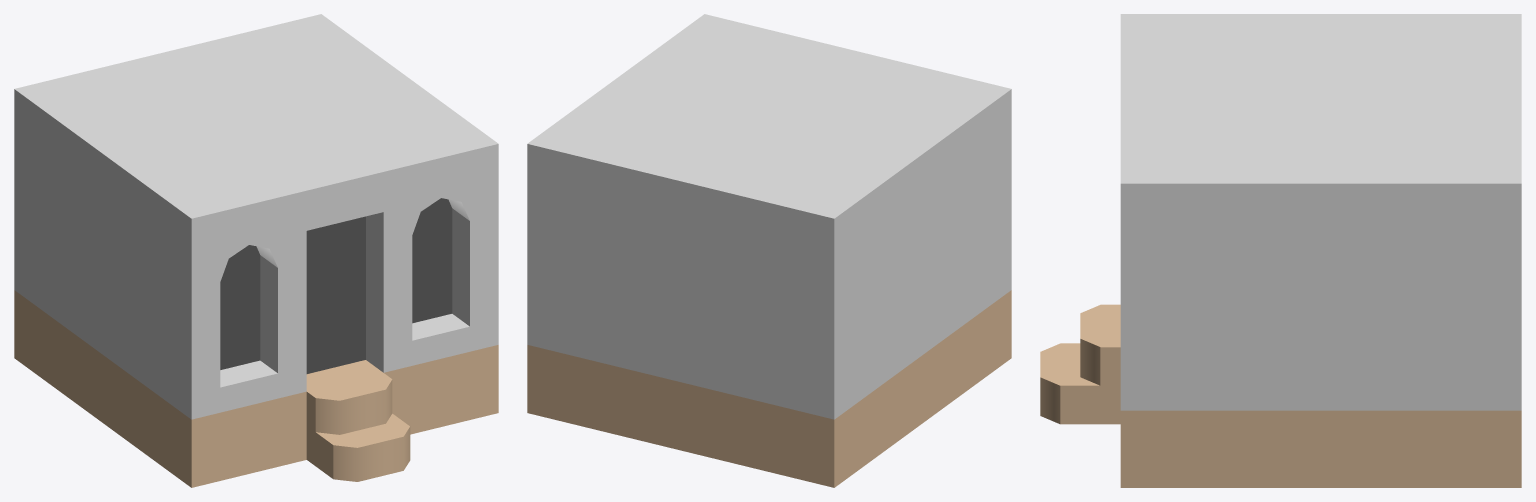
The model's file is building_with_windows.fbx.
3 renders of one model, left to right at view 1: azimuth 30°, elevation 25°; view 2: azimuth 150°, elevation 25°; view 3: azimuth 270°, elevation 25°, orthographic. The views are drawn at different scales.
Visible parts, largest first — view 1: building_steps_narrow_windows_round; view 2: building_steps_narrow_windows_round; view 3: building_steps_narrow_windows_round.
Boxes of the visible parts, x1,y1,x2,y2 form: building_steps_narrow_windows_round: (14, 14, 498, 487); building_steps_narrow_windows_round: (527, 14, 1011, 487); building_steps_narrow_windows_round: (1040, 14, 1521, 487).
Size of the model in its own units: 100 by 83.75 by 120.
